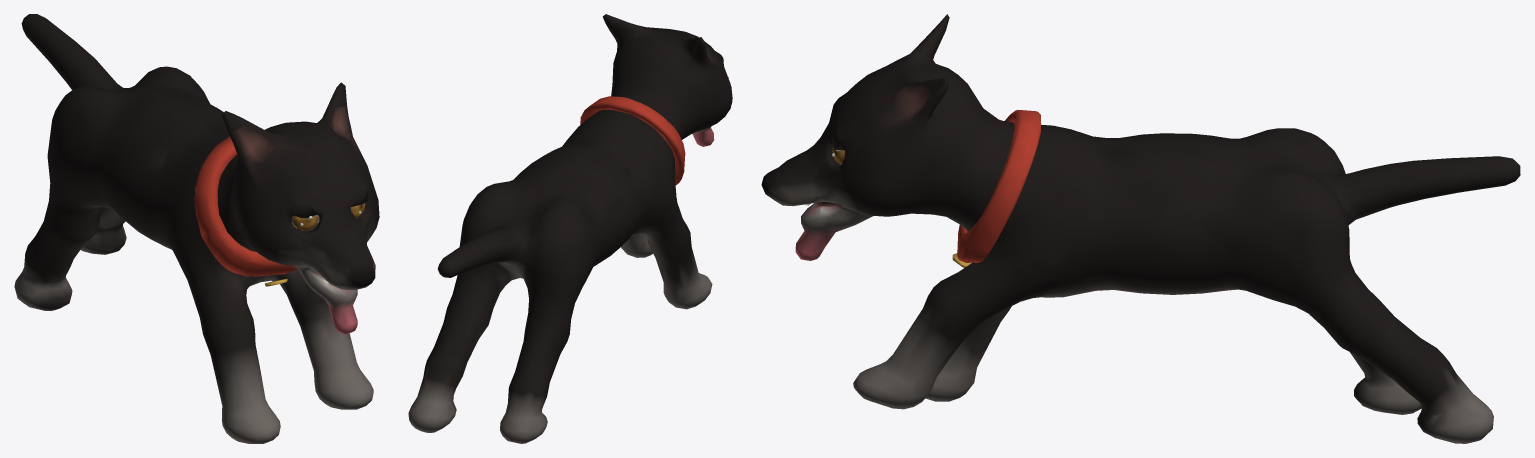
Rendered from cho_muc_duoi.glb.
The picture shows the model from 3 angles, left to right: view 1: azimuth 30°, elevation 25°; view 2: azimuth 150°, elevation 25°; view 3: azimuth 270°, elevation 25°; orthographic projection. The views are drawn at different scales.
Parts seen in each view (by area): view 1: cho_muc_duoi; view 2: cho_muc_duoi; view 3: cho_muc_duoi.
Boxes of the visible parts, box(x1,y1,x2,y2) form: cho_muc_duoi: box(14, 14, 379, 443); cho_muc_duoi: box(408, 14, 732, 443); cho_muc_duoi: box(761, 14, 1520, 443).
Size of the model in its own units: 0.3507 by 0.7993 by 1.43.
